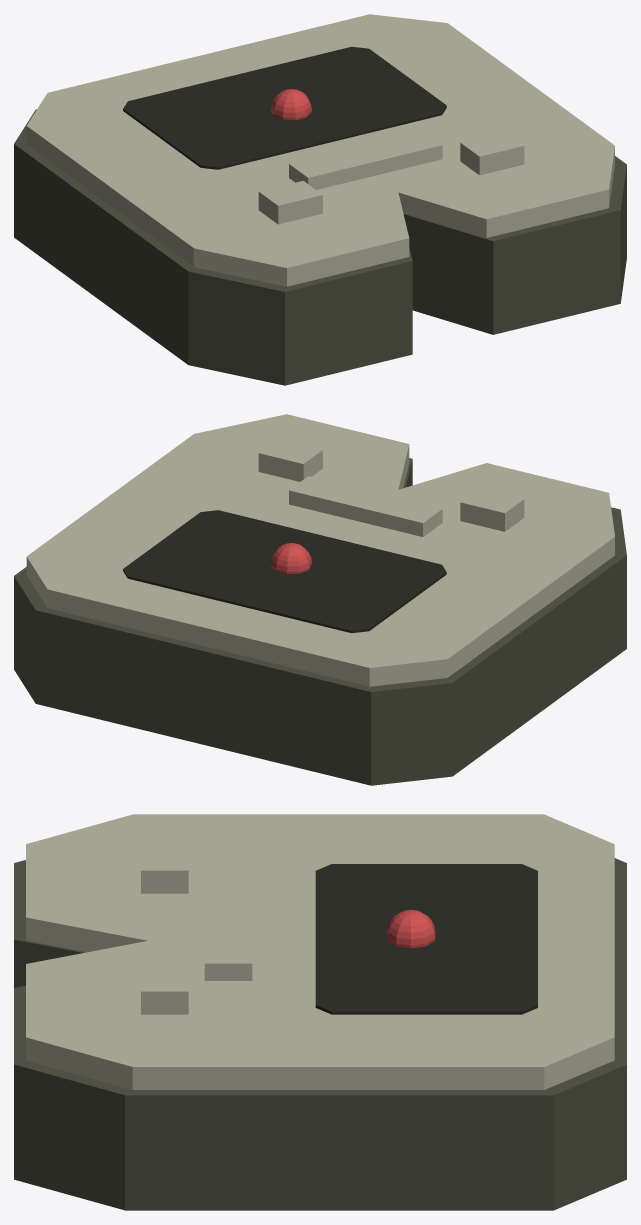
The model's file is vge_mech_aux_processor_a.obj.
The picture shows the model from 3 angles, top to bottom: view 1: azimuth 30°, elevation 25°; view 2: azimuth 150°, elevation 25°; view 3: azimuth 270°, elevation 25°; orthographic projection. The views are drawn at different scales.
Parts seen in each view (by area): view 1: vge_mech_aux_processor_a_1, vge_mech_aux_processor_a_0, vge_mech_aux_processor_a_5, vge_mech_aux_processor_a_2, vge_mech_aux_processor_a_4, vge_mech_aux_processor_a_3, vge_mech_aux_processor_a_6; view 2: vge_mech_aux_processor_a_1, vge_mech_aux_processor_a_0, vge_mech_aux_processor_a_5, vge_mech_aux_processor_a_2, vge_mech_aux_processor_a_3, vge_mech_aux_processor_a_4, vge_mech_aux_processor_a_6; view 3: vge_mech_aux_processor_a_1, vge_mech_aux_processor_a_0, vge_mech_aux_processor_a_5, vge_mech_aux_processor_a_2, vge_mech_aux_processor_a_4, vge_mech_aux_processor_a_3, vge_mech_aux_processor_a_6.
Boxes of the visible parts, box(x1,y1,x2,y2) form: vge_mech_aux_processor_a_1: box(26, 14, 614, 286); vge_mech_aux_processor_a_0: box(14, 109, 626, 385); vge_mech_aux_processor_a_5: box(123, 46, 446, 169); vge_mech_aux_processor_a_2: box(289, 131, 442, 189); vge_mech_aux_processor_a_4: box(460, 131, 524, 175); vge_mech_aux_processor_a_3: box(258, 181, 322, 224); vge_mech_aux_processor_a_6: box(271, 89, 311, 120); vge_mech_aux_processor_a_1: box(26, 414, 614, 686); vge_mech_aux_processor_a_0: box(14, 458, 626, 785); vge_mech_aux_processor_a_5: box(123, 510, 446, 633); vge_mech_aux_processor_a_2: box(289, 476, 442, 536); vge_mech_aux_processor_a_3: box(460, 488, 524, 531); vge_mech_aux_processor_a_4: box(258, 439, 322, 481); vge_mech_aux_processor_a_6: box(271, 543, 311, 574); vge_mech_aux_processor_a_1: box(26, 814, 614, 1089); vge_mech_aux_processor_a_0: box(14, 858, 626, 1210); vge_mech_aux_processor_a_5: box(315, 864, 537, 1014); vge_mech_aux_processor_a_2: box(204, 883, 252, 980); vge_mech_aux_processor_a_4: box(141, 964, 188, 1014); vge_mech_aux_processor_a_3: box(141, 844, 188, 893); vge_mech_aux_processor_a_6: box(387, 909, 435, 948).
Bounding box in the file's own units: 1.96 × 0.58 × 1.93.
